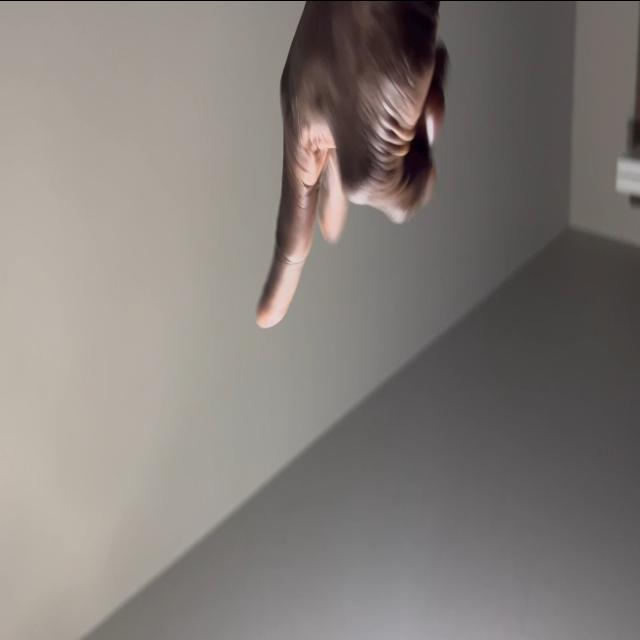Scissors: (257, 0, 449, 332)
